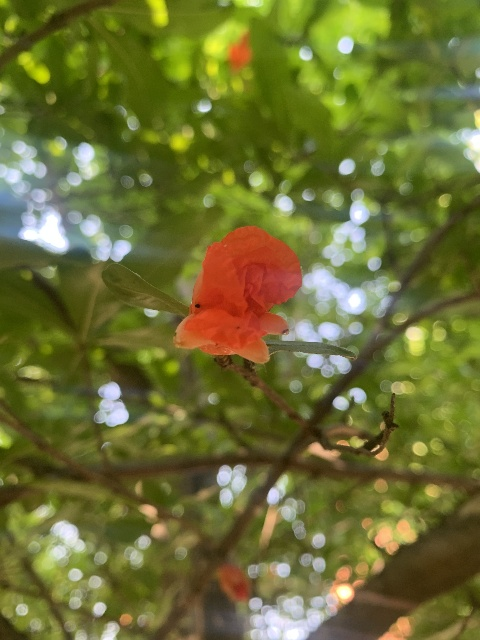flower: (173, 226, 302, 363)
